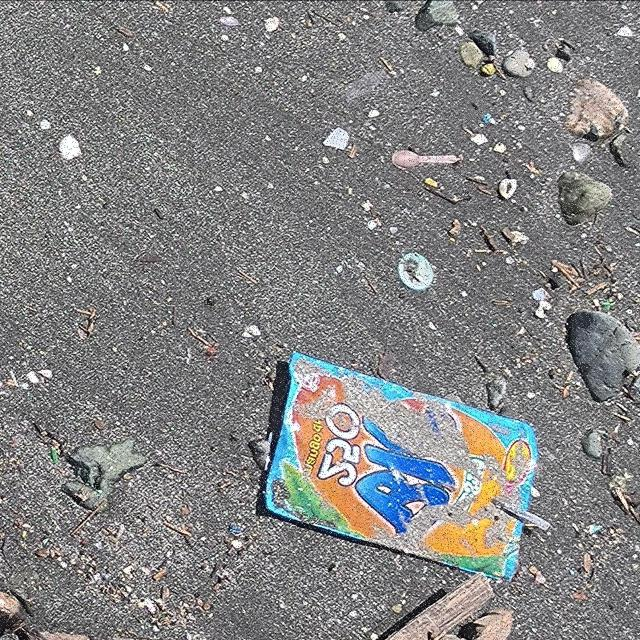plastic_waste: (265, 349, 537, 583)
